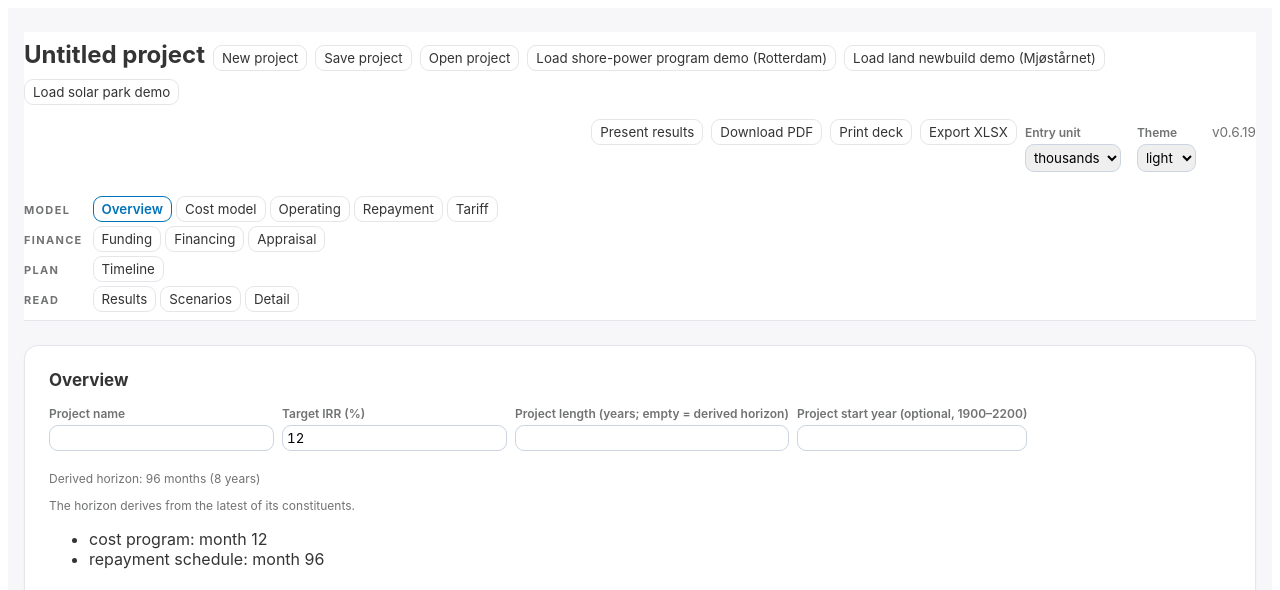
Test case: v0.6 chunk 4 — the web surfaces › CONTRACTS-EDITOR: the legacy single-contract project renders as one stream; adding a contract renders the editor
Step 1. Click the button "Load shore-power program demo (Rotterdam)" → click(682, 58), box [527,45,836,71]
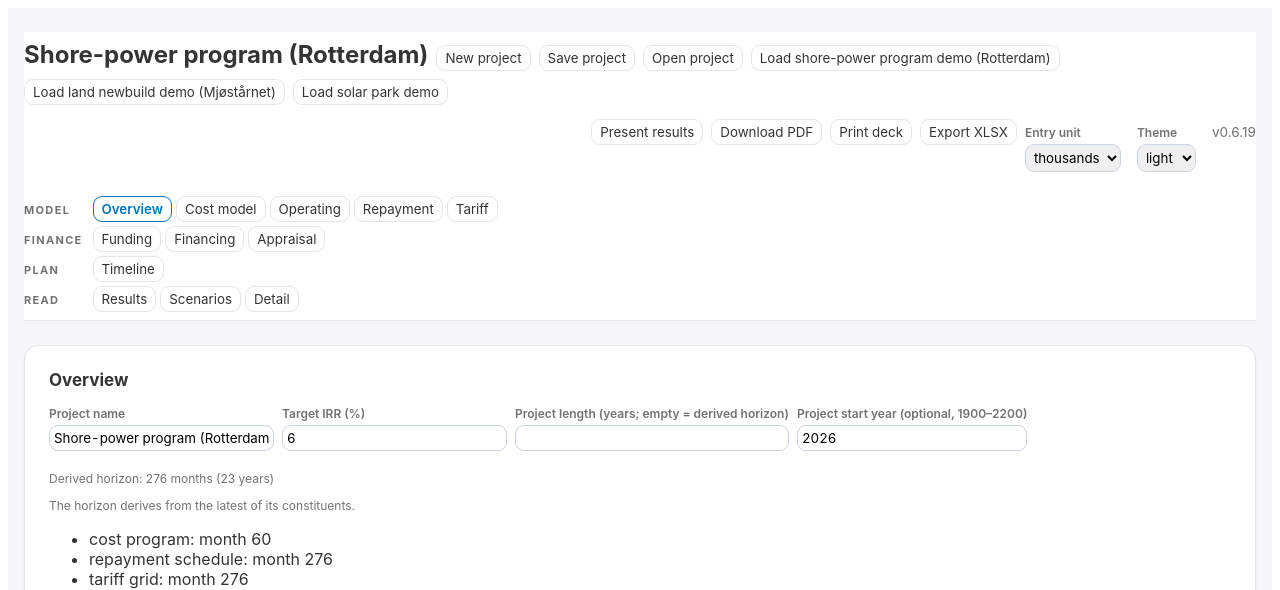
Step 2. Click the button "Repayment" → click(398, 209), box [354,196,443,222]
(page scrolled)
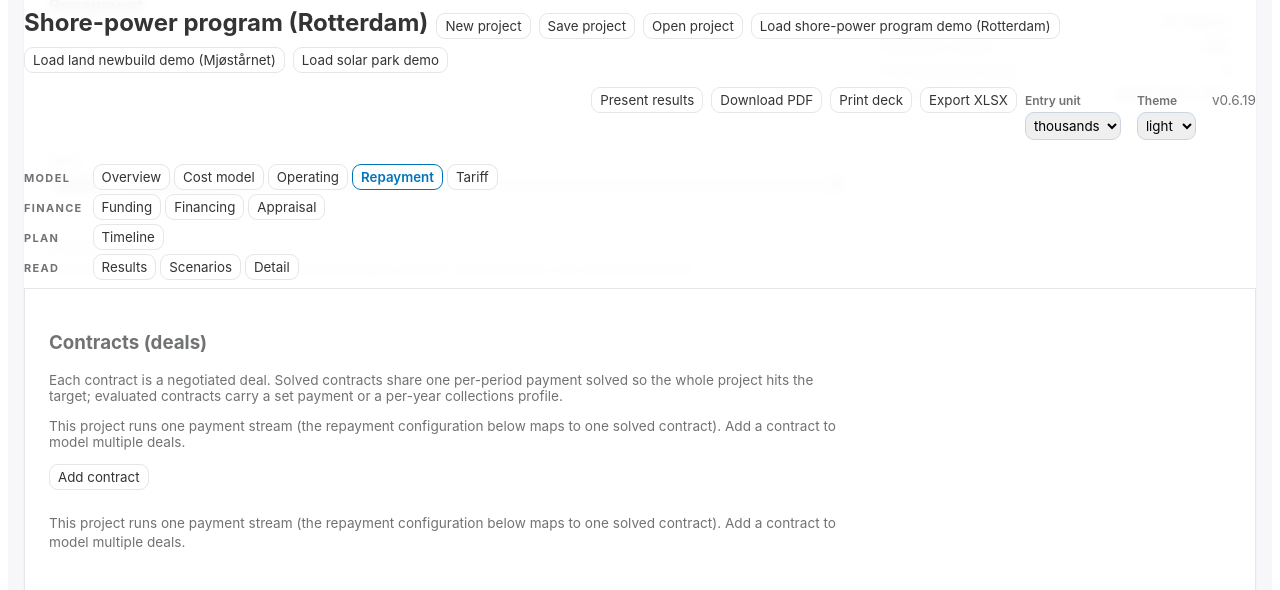
Now the text with test id "legacy-contract-note" below "Contracts (deals)" is shown, box [49,418,855,450]
Now the element with test id "contracts-editor" is shown, box [49,312,855,490]
